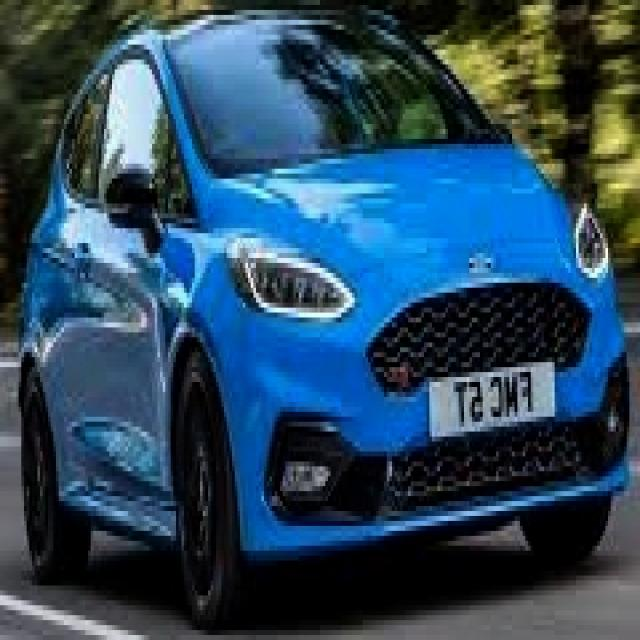blue: (20, 1, 627, 605)
